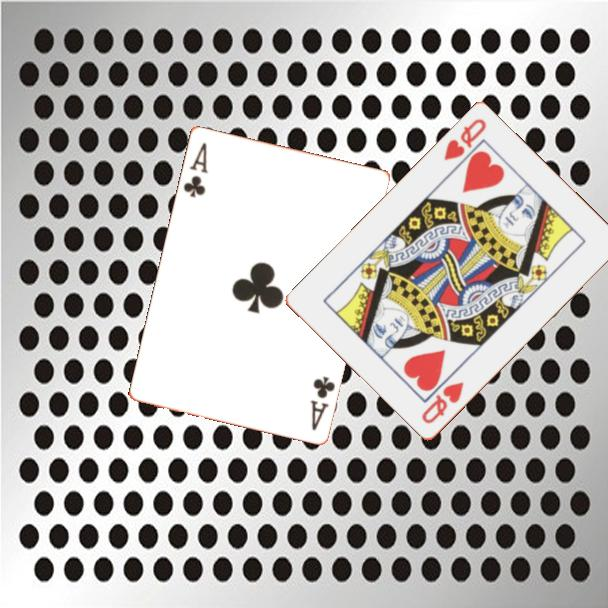c01: (307, 372, 338, 433), (180, 139, 210, 200)
h12: (418, 378, 467, 427), (440, 115, 489, 164)
